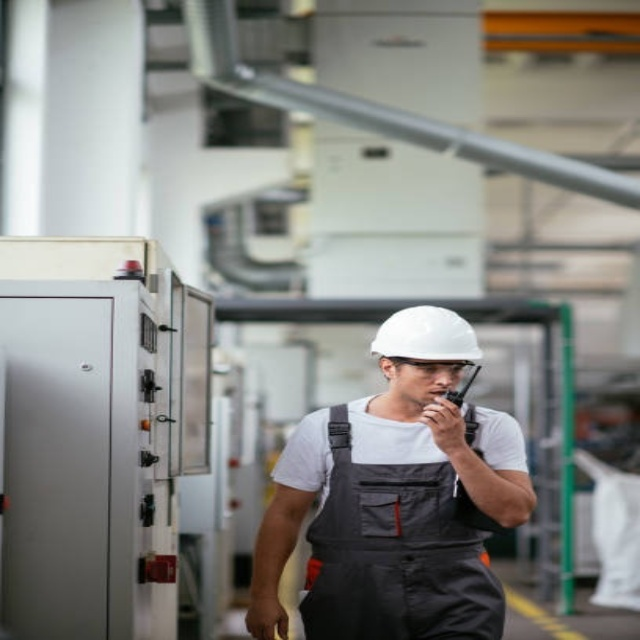Gafas: (390, 358, 475, 378)
Sin_guantes: (422, 396, 471, 445), (240, 596, 293, 638)
Sin_mascara: (428, 391, 449, 399)
